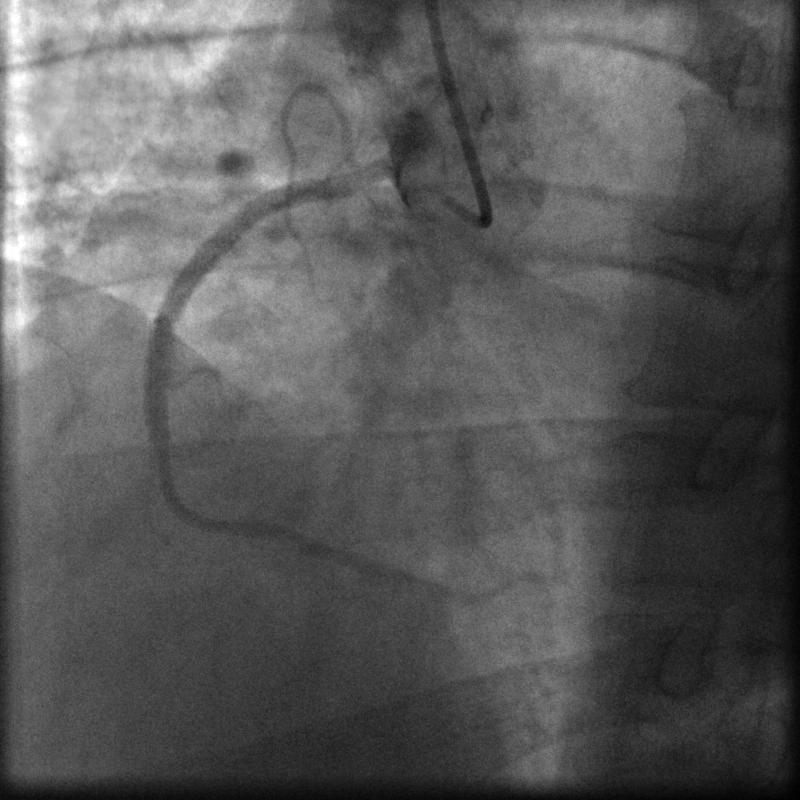Stenosis: (144, 430, 180, 498)
